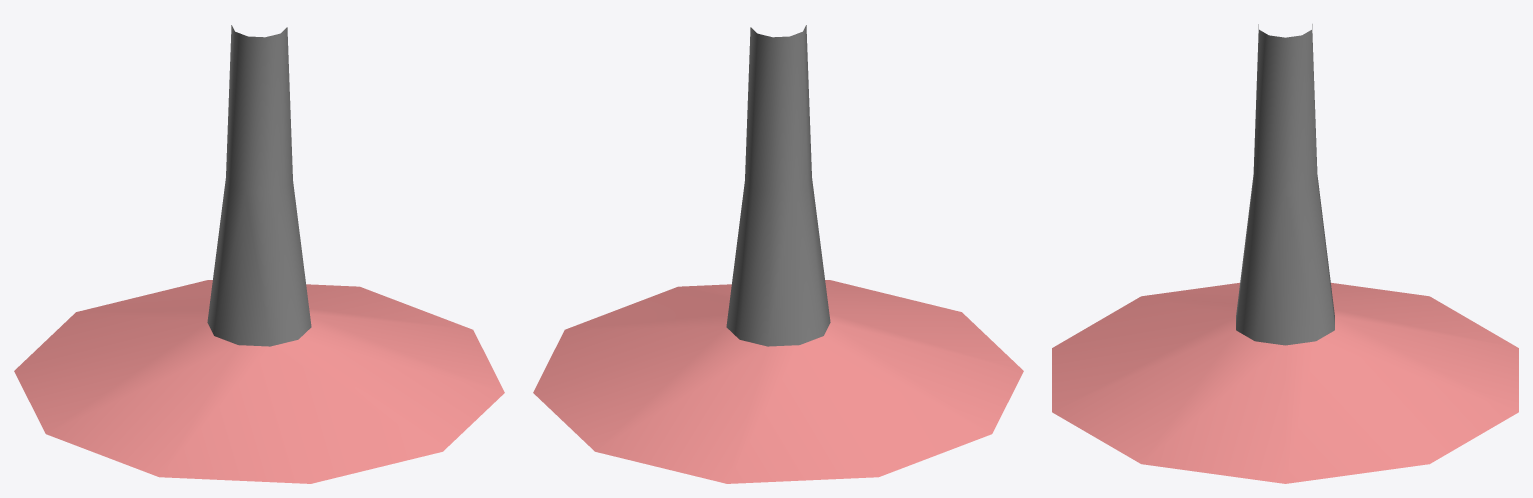
Rendered from mush_piece_02.gltf.
The picture shows the model from 3 angles, left to right: view 1: azimuth 30°, elevation 25°; view 2: azimuth 150°, elevation 25°; view 3: azimuth 270°, elevation 25°; orthographic projection.
Visible parts, largest first — view 1: mush_piece_02; view 2: mush_piece_02; view 3: mush_piece_02.
Boxes of the visible parts, box(x1,y1,x2,y2) form: mush_piece_02: box(14, 25, 504, 483); mush_piece_02: box(533, 25, 1023, 483); mush_piece_02: box(1052, 24, 1518, 483).
Size of the model in its own units: 3.35 by 2.67 by 3.18.
